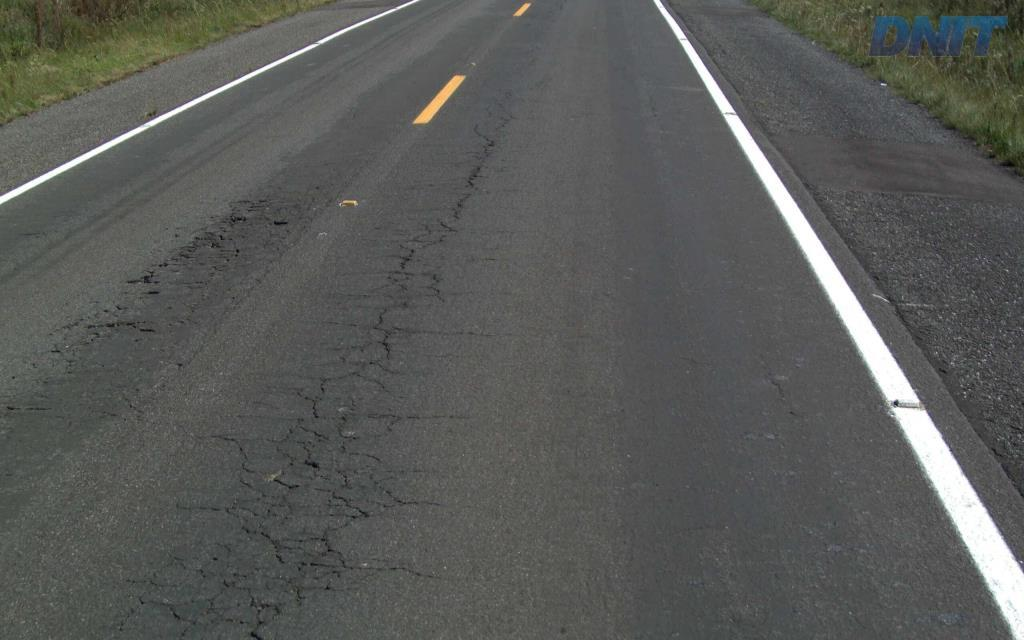crack: (148, 570, 286, 639), (240, 519, 354, 580), (266, 425, 330, 480), (372, 308, 416, 360), (257, 476, 300, 527), (271, 573, 336, 606), (314, 489, 373, 521)
